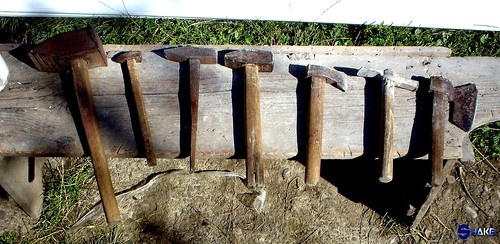hammer: (26, 26, 120, 223), (162, 43, 218, 174), (223, 48, 272, 189), (112, 49, 156, 166), (301, 62, 340, 185)
